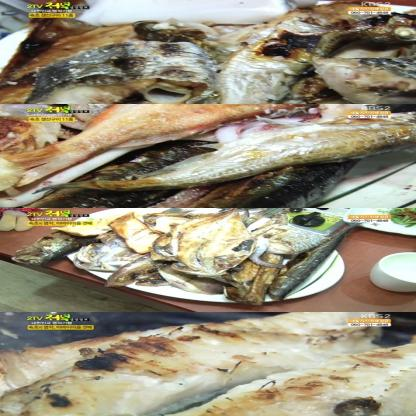Peixe: (0, 302, 416, 416), (0, 88, 416, 199), (0, 0, 416, 107), (0, 195, 354, 315)
